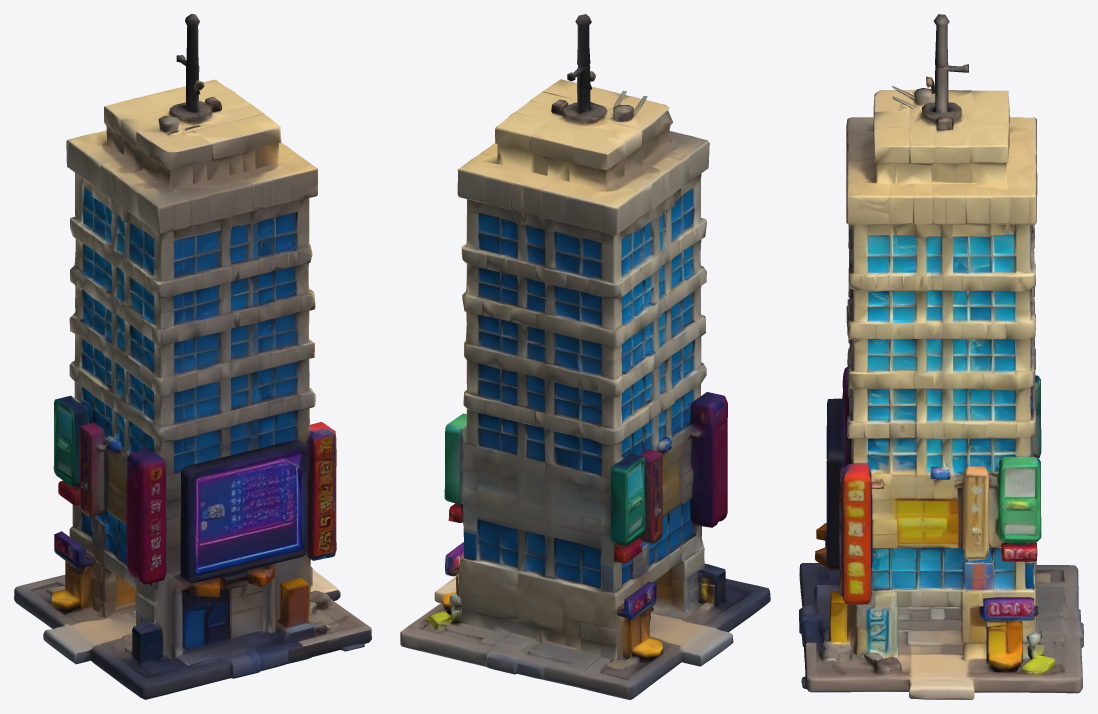
Rendered from huaqiangbei.glb.
3 renders of one model, left to right at view 1: azimuth 30°, elevation 25°; view 2: azimuth 150°, elevation 25°; view 3: azimuth 270°, elevation 25°, orthographic. The views are drawn at different scales.
Parts seen in each view (by area): view 1: tripo_node_541d621c-9102-47f5-be7b-4278515da2ab; view 2: tripo_node_541d621c-9102-47f5-be7b-4278515da2ab; view 3: tripo_node_541d621c-9102-47f5-be7b-4278515da2ab.
Part boxes in pixels (x1,y1,x2,y2): tripo_node_541d621c-9102-47f5-be7b-4278515da2ab: (14, 14, 371, 699); tripo_node_541d621c-9102-47f5-be7b-4278515da2ab: (400, 14, 770, 699); tripo_node_541d621c-9102-47f5-be7b-4278515da2ab: (799, 14, 1083, 699).
Bounding box in the file's own units: 0.4587 × 1 × 0.4151.
Materials: 1 (1 with a texture image).
